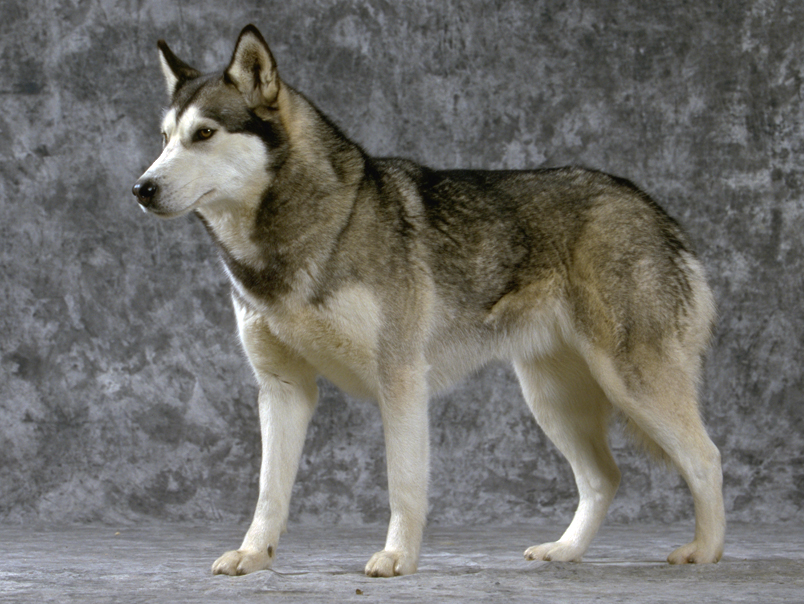husky: (115, 33, 449, 582)
